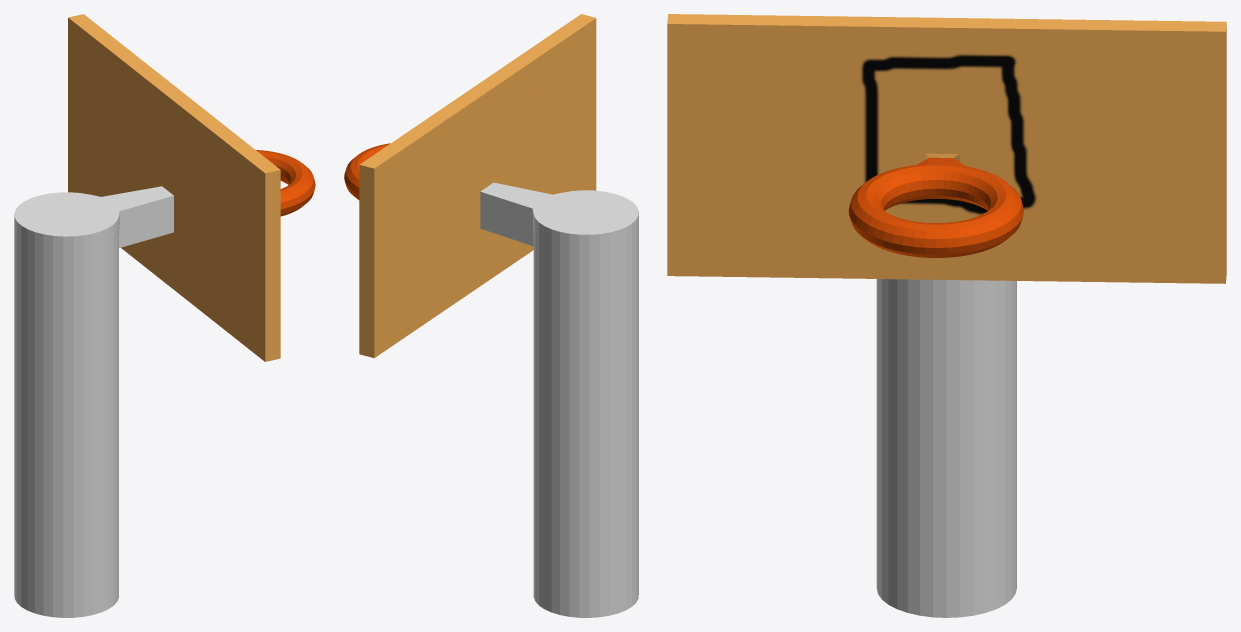
The model's file is baseballPole.fbx.
3 renders of one model, left to right at view 1: azimuth 30°, elevation 25°; view 2: azimuth 150°, elevation 25°; view 3: azimuth 270°, elevation 25°, orthographic. The views are drawn at different scales.
Parts seen in each view (by area): view 1: Pole, Board, Hoop; view 2: Pole, Board, Hoop; view 3: Board, Pole, Hoop.
Boxes of the visible parts, x1,y1,x2,y2 form: Pole: (14,186,173,617); Board: (68,14,280,361); Hoop: (256,150,315,216); Pole: (480,182,638,617); Board: (359,14,596,358); Hoop: (344,143,390,199); Board: (667,14,1226,283); Pole: (876,279,1016,617); Hoop: (848,157,1023,257).
Size of the model in its own units: 620 by 1001 by 798.
